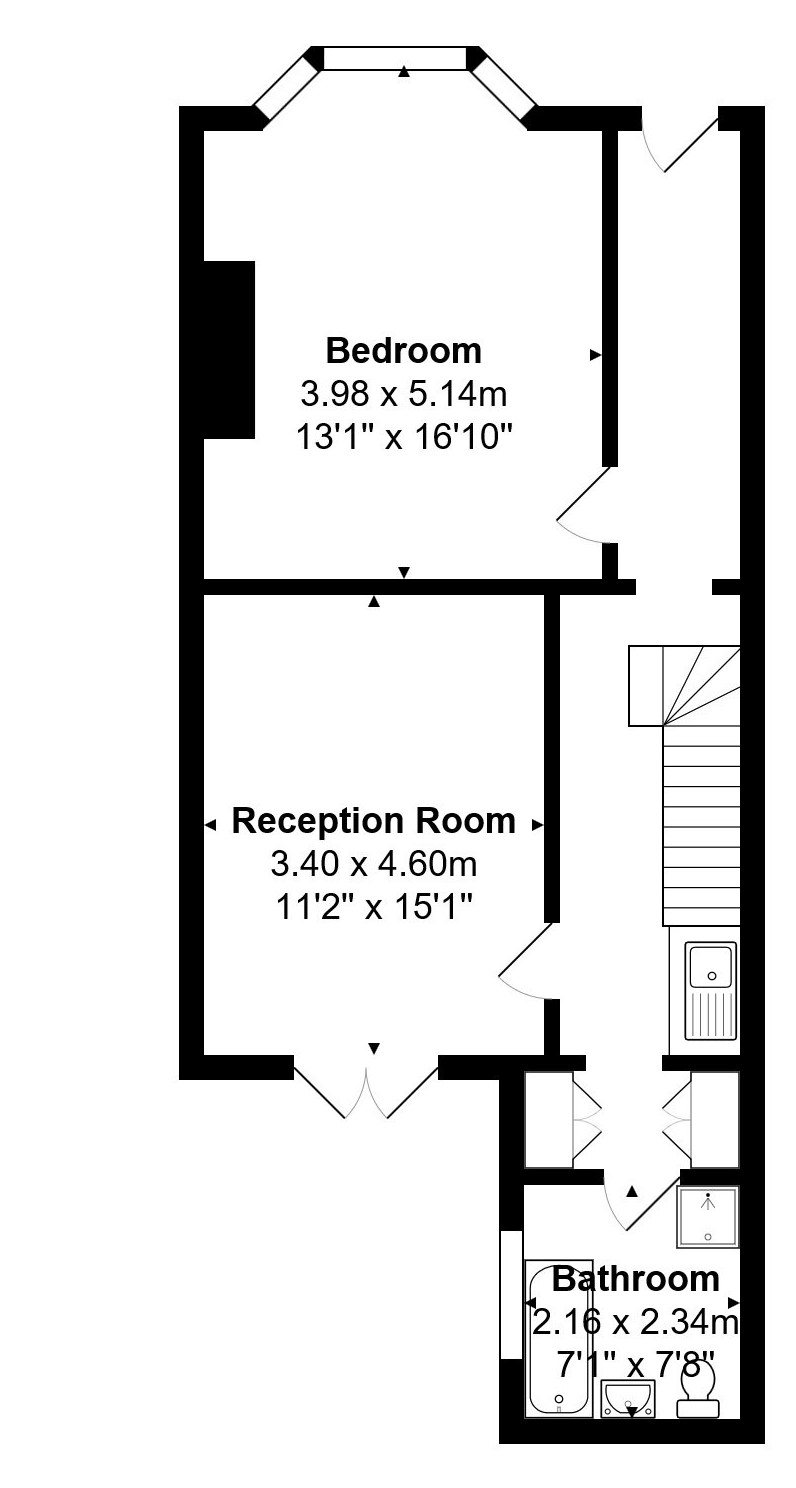room: (176, 107, 635, 596), (180, 580, 576, 1077), (501, 1168, 764, 1443)
